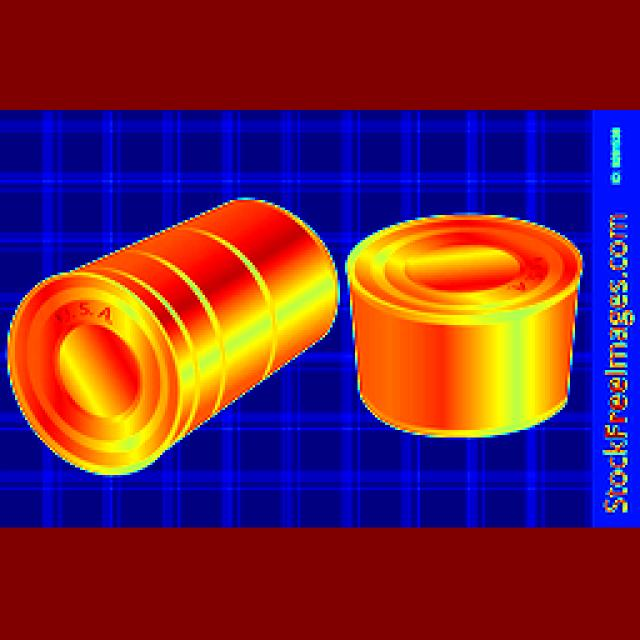Aluminium Food Cans: (2, 192, 330, 450), (334, 179, 568, 447)
